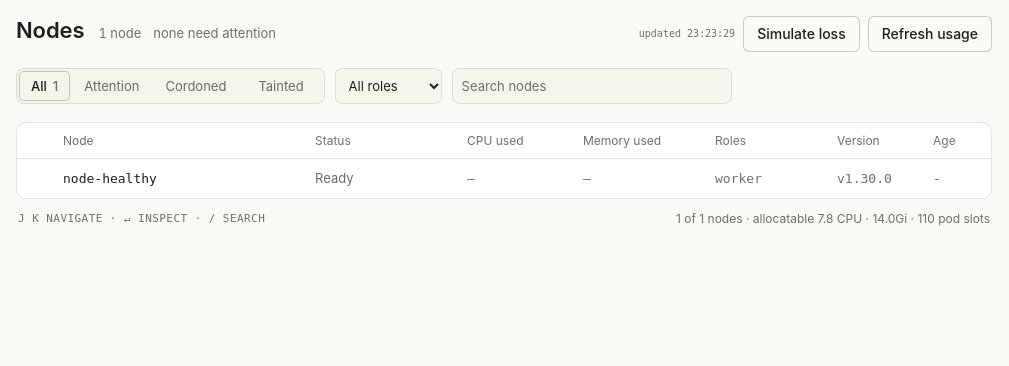
Test: NodesView › survivability: a shortfall names the pods that won't fit
Click the button "Simulate loss". click: point(801, 34)
box: top-left (743, 16), bottom-right (860, 52)
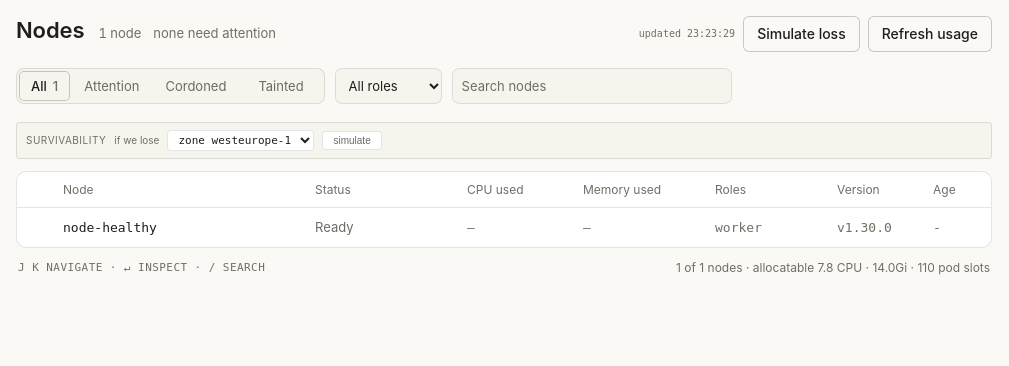
Click the button "simulate". click: point(352, 140)
box: top-left (322, 131), bottom-right (382, 150)
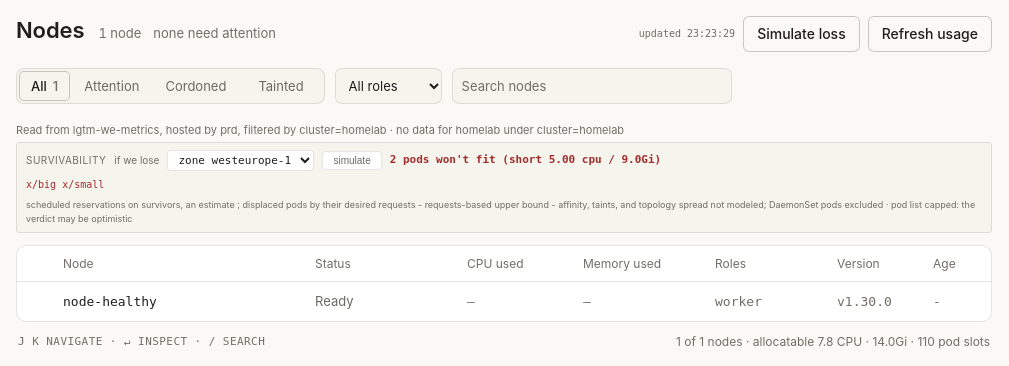
Check: the text with test id "survivability-verdict" shows "2 pods won't fit", box top-left (390, 153), bottom-right (661, 166)
Check: the text "x/big" is shown, box top-left (26, 177), bottom-right (56, 192)
Check: the text "pod list capped: the verdict may be optimistic" is shown, box top-left (26, 199), bottom-right (975, 224)
